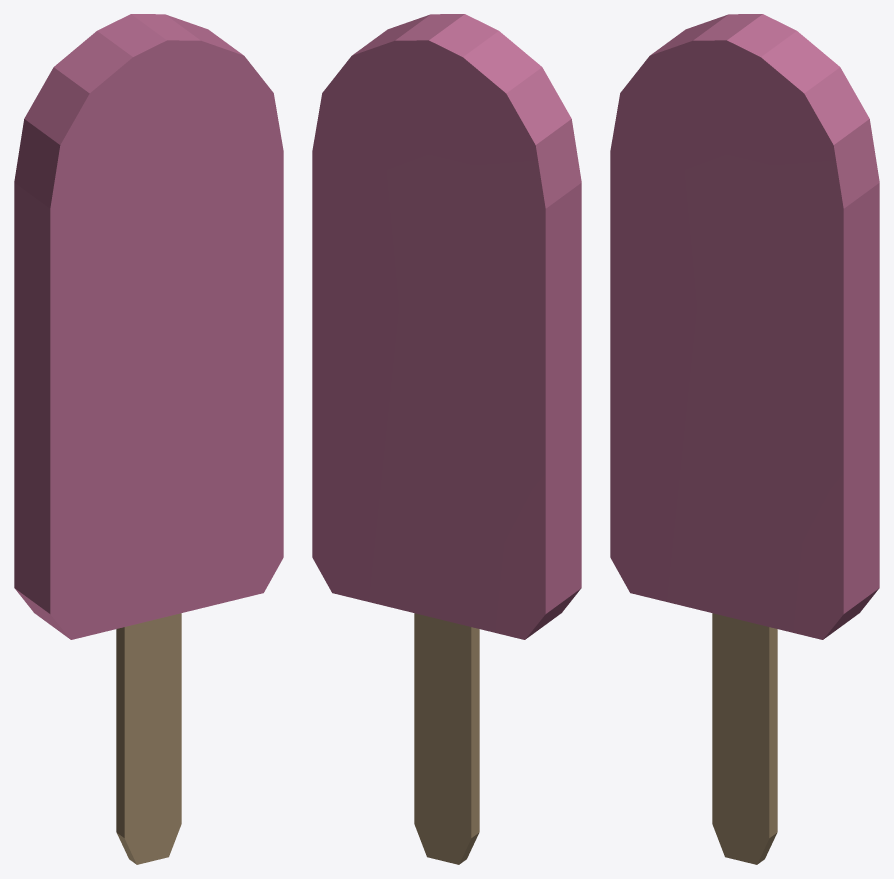
The model's file is Popsicle_Strawberry.glb.
The picture shows the model from 3 angles, left to right: view 1: azimuth 30°, elevation 25°; view 2: azimuth 150°, elevation 25°; view 3: azimuth 330°, elevation 25°; orthographic projection.
Visible parts, largest first — view 1: Popsicle_Strawberry; view 2: Popsicle_Strawberry; view 3: Popsicle_Strawberry.
Boxes of the visible parts, x1,y1,x2,y2 form: Popsicle_Strawberry: [14, 14, 283, 864]; Popsicle_Strawberry: [312, 14, 581, 864]; Popsicle_Strawberry: [610, 14, 879, 864].
Bounding box in the file's own units: 0.2911 × 0.99 × 0.0798.
